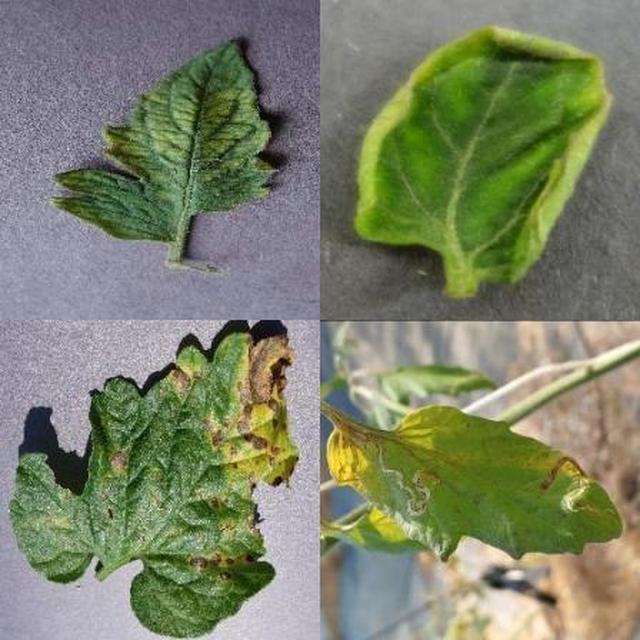Mosaic Virus Leaf: (218, 200, 640, 640)
